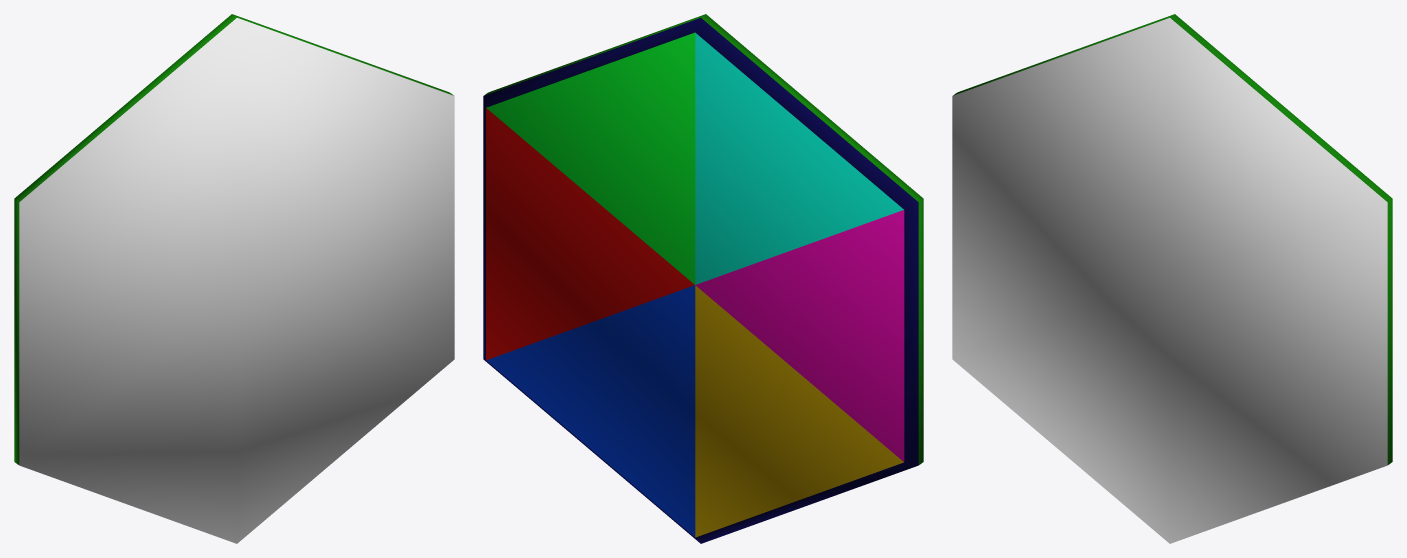
The model's file is hexagon.fbx.
3 renders of one model, left to right at view 1: azimuth 30°, elevation 25°; view 2: azimuth 150°, elevation 25°; view 3: azimuth 330°, elevation 25°, orthographic.
Visible parts, largest first — view 1: Hexagon; view 2: Hexagon; view 3: Hexagon.
Boxes of the visible parts, x1,y1,x2,y2 form: Hexagon: (14, 14, 454, 543); Hexagon: (483, 14, 923, 543); Hexagon: (952, 14, 1392, 543).
Size of the model in its own units: 86.6 by 100 by 3.74.
